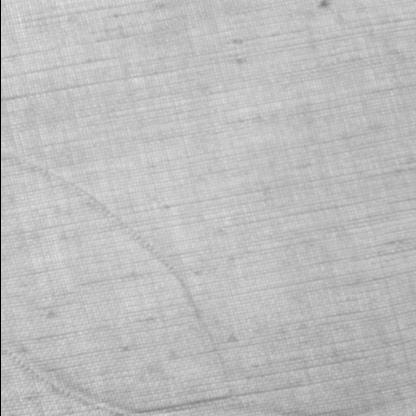objects: (1, 150, 233, 415)
